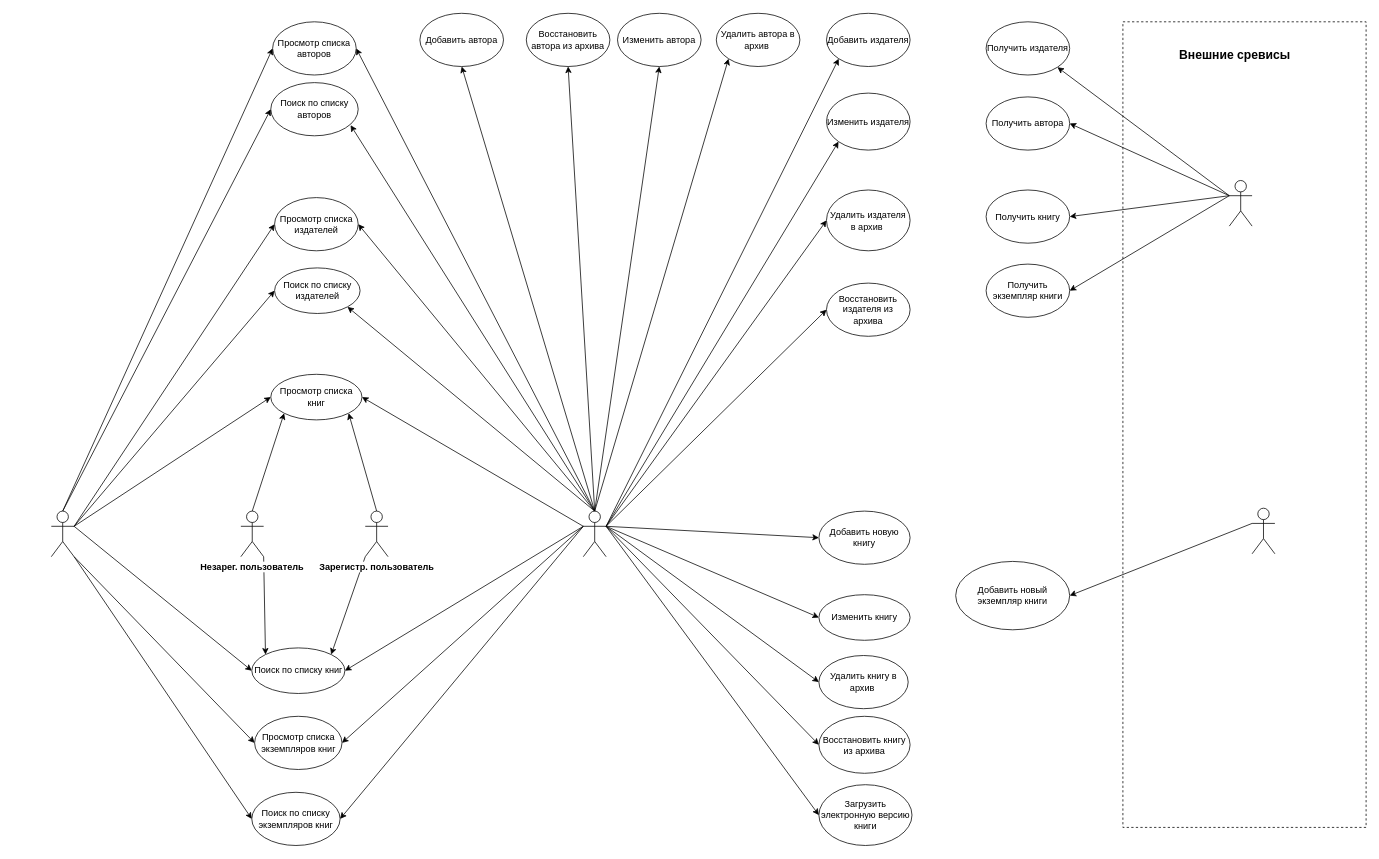
This 1379x859 diagram has some shape labels left out. Here are the shapes that lost their labels. From the top down, the centre of each, then its label:
pixel 1240 203: Остальные сервисы
pixel 62 533: Стажёр библиотекаря
pixel 594 533: Библиотекарь
pixel 1263 530: Сервис "Приход и списание книг"
